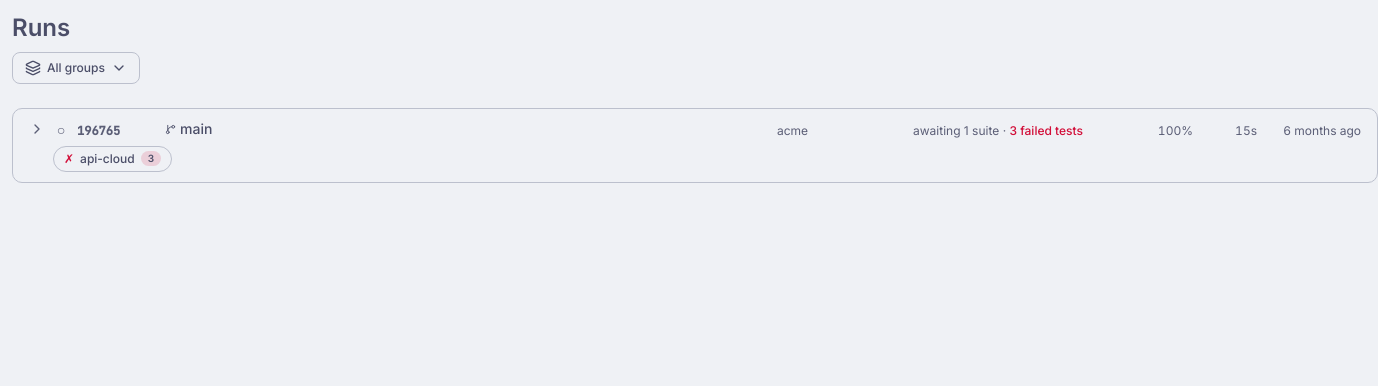
Test: RunsFeedPage polling for a run that is still uploading › keeps an expanded row open across a poll that adds a suite
Click the button with test id "run-row-toggle" at (37, 129), box top-left (25, 117), bottom-right (49, 141)
Wait 30000 ms
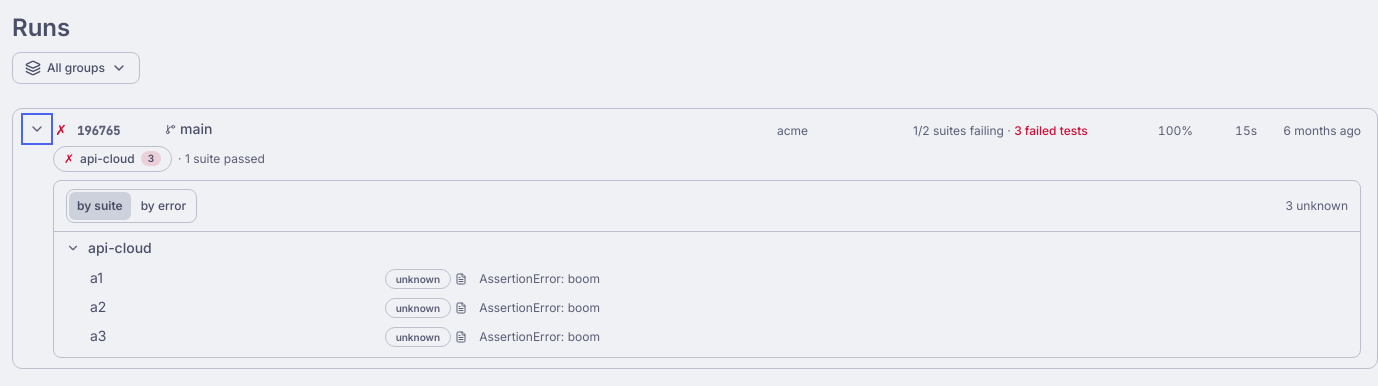
Check: the text "1/2 suites failing · 3 failed tests" is shown, box top-left (913, 122), bottom-right (1088, 138)
Check: the button with test id "run-row-toggle" is expanded, box top-left (25, 117), bottom-right (49, 141)
Check: the element with test id "run-failures" is shown, box top-left (53, 180), bottom-right (1361, 358)
